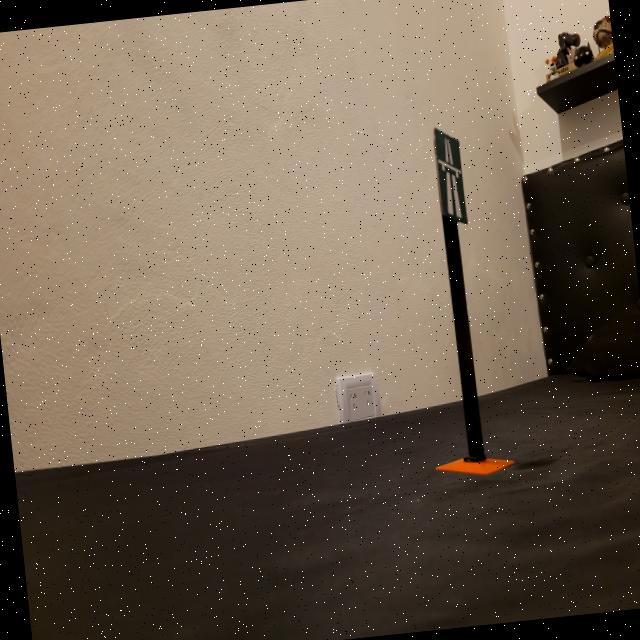highway_entrance: (431, 126, 468, 227)
